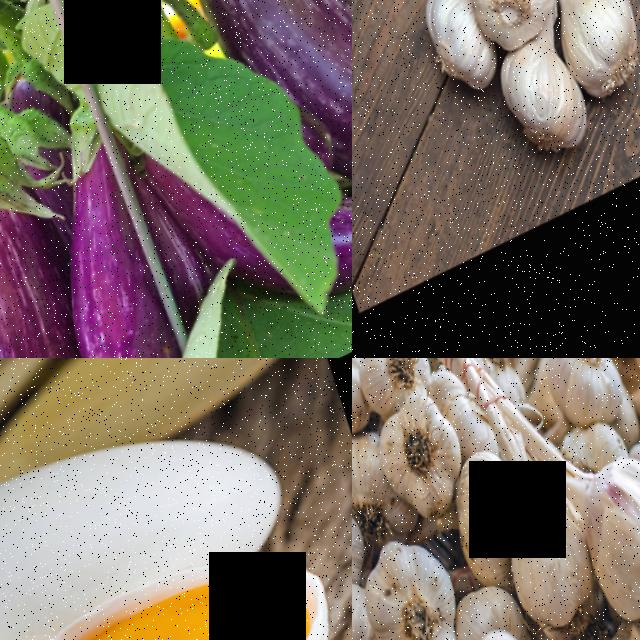egg_: (0, 372, 297, 640), (0, 536, 352, 640)
eggplant: (1, 96, 210, 358), (0, 110, 124, 358), (232, 0, 352, 246)
garlic: (496, 495, 618, 640), (369, 388, 484, 540), (493, 41, 605, 185), (561, 443, 640, 640), (352, 517, 476, 640), (543, 0, 640, 126), (410, 0, 508, 116), (530, 358, 639, 449), (453, 0, 577, 74), (352, 358, 444, 430), (352, 358, 384, 452)
